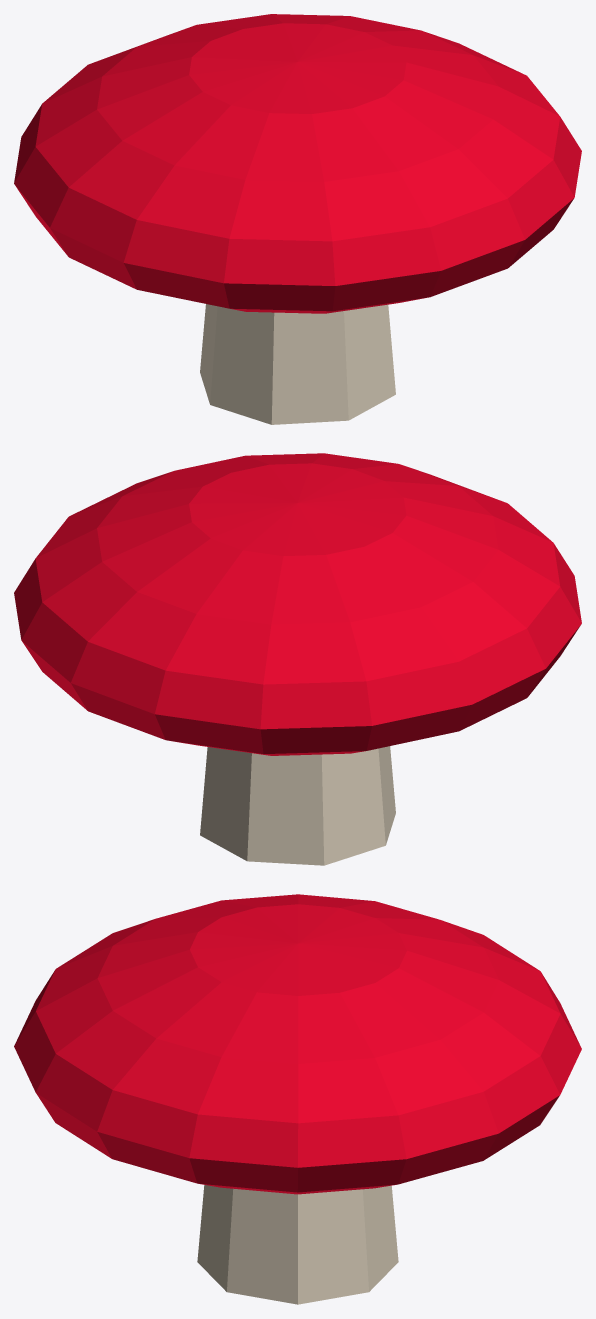
The model's file is Mushroom.blend.glb.
3 renders of one model, top to bottom at view 1: azimuth 30°, elevation 25°; view 2: azimuth 150°, elevation 25°; view 3: azimuth 270°, elevation 25°, orthographic.
Visible parts, largest first — view 1: Sphere; view 2: Sphere; view 3: Sphere.
Part boxes in pixels (bbox=[...]): Sphere: bbox=[14, 14, 581, 424]; Sphere: bbox=[14, 453, 581, 865]; Sphere: bbox=[14, 894, 581, 1304].
Size of what is drawn, in the model's own units: 0.7251 by 0.4489 by 0.7251.
